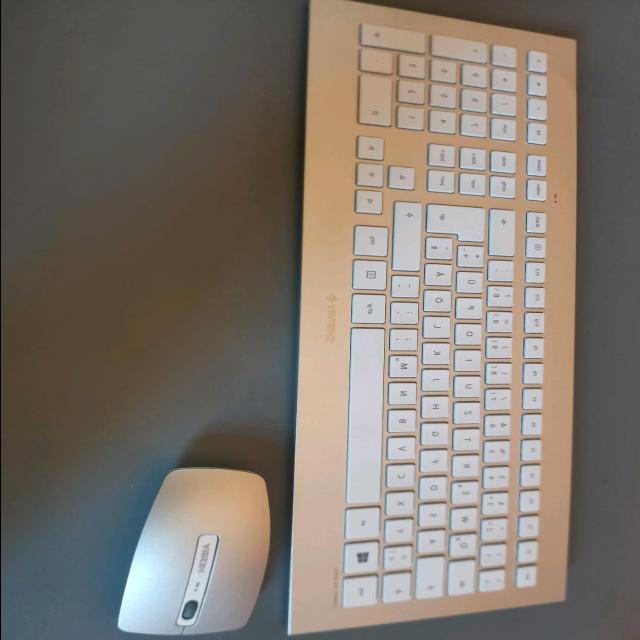0: (487, 312, 515, 334)
1: (481, 546, 508, 568)
2: (482, 520, 509, 542)
3: (483, 493, 510, 516)
4: (485, 468, 512, 490)
5: (485, 442, 512, 464)
6: (486, 415, 513, 437)
7: (486, 390, 513, 412)
8: (486, 363, 514, 386)
9: (487, 338, 515, 360)
a: (418, 532, 448, 555)
accent: (489, 261, 516, 283)
ae: (423, 264, 452, 287)
alt-left: (346, 508, 382, 542)
altgr-right: (352, 293, 387, 324)
b: (387, 409, 417, 433)
c: (386, 464, 416, 488)
caret: (481, 572, 507, 594)
comma: (389, 328, 419, 352)
d: (419, 478, 448, 501)
del: (490, 211, 518, 258)
e: (450, 481, 478, 504)
enter: (427, 206, 489, 244)
f: (419, 449, 448, 473)
g: (420, 422, 450, 446)
h: (421, 396, 450, 419)
hash: (425, 237, 453, 260)
i: (454, 350, 482, 372)
j: (421, 369, 450, 392)
k: (422, 342, 451, 366)
keyboard: (279, 0, 583, 640)
l: (422, 317, 451, 339)
less: (382, 546, 412, 570)
m: (388, 355, 418, 379)
minus: (390, 275, 419, 299)
n: (387, 382, 417, 406)
o: (456, 324, 485, 347)
oe: (423, 290, 452, 313)
p: (457, 299, 485, 321)
plus: (459, 247, 487, 269)
point: (389, 302, 419, 325)
q: (451, 535, 479, 559)
r: (451, 455, 480, 477)
s: (418, 505, 447, 529)
shift-left: (383, 575, 412, 606)
shift-lock: (416, 559, 446, 601)
shift-right: (392, 202, 424, 273)
space: (344, 329, 386, 506)
ss: (488, 287, 516, 309)
strg-left: (343, 577, 379, 611)
strg-right: (355, 225, 389, 258)
t: (451, 429, 480, 451)
tab: (449, 563, 477, 598)
u: (453, 376, 482, 398)
ue: (458, 273, 486, 295)
v: (386, 436, 416, 460)
w: (450, 507, 478, 531)
x: (384, 492, 414, 516)
y: (384, 520, 414, 544)
z: (452, 402, 481, 424)
